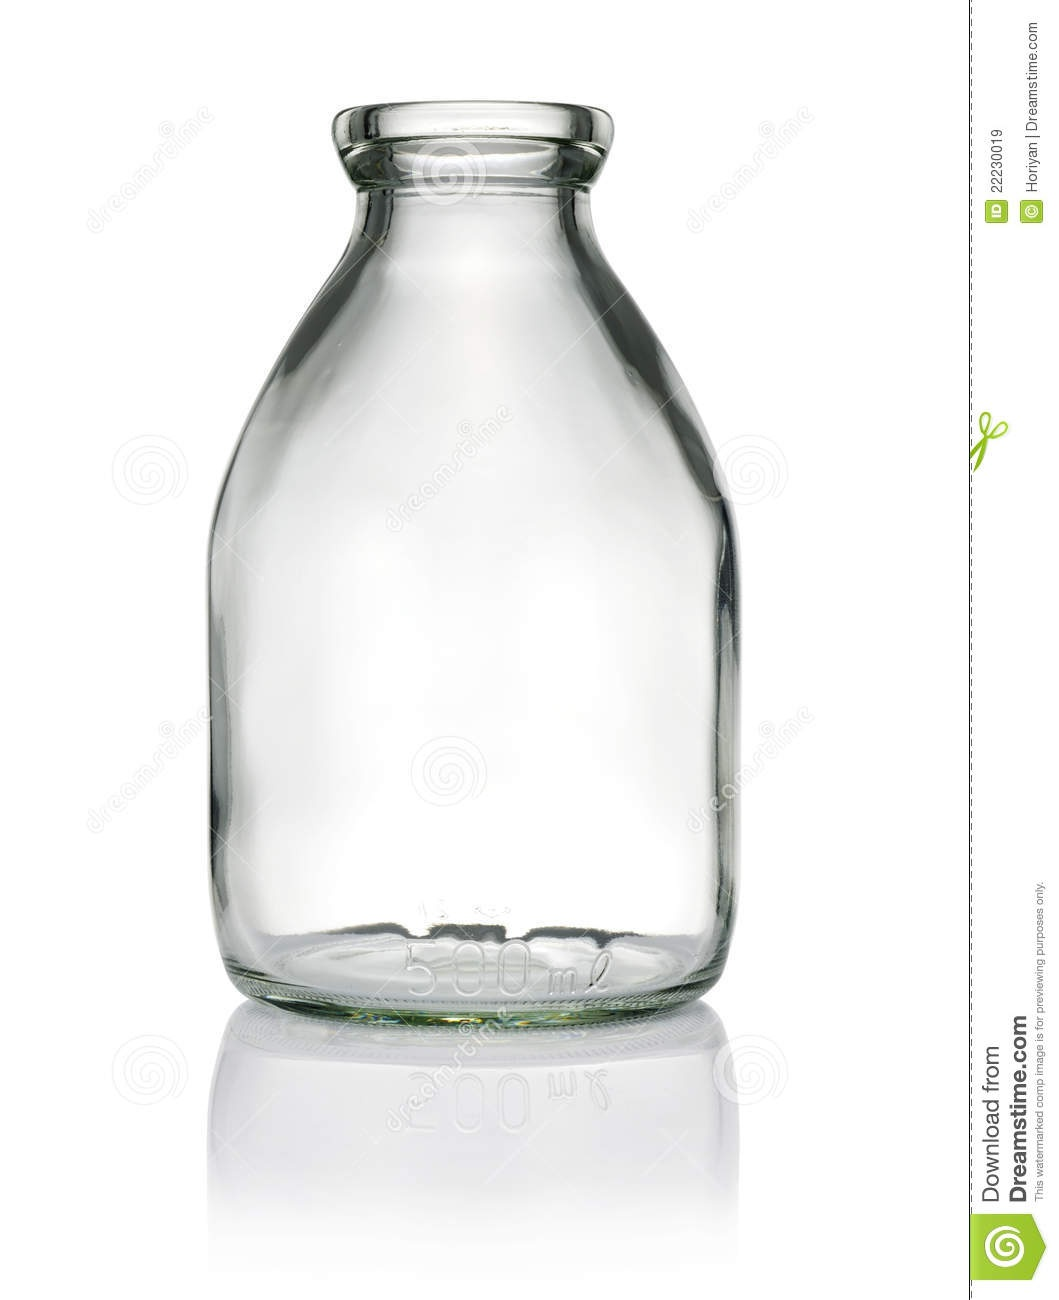emptybottle: (204, 98, 733, 1026)
